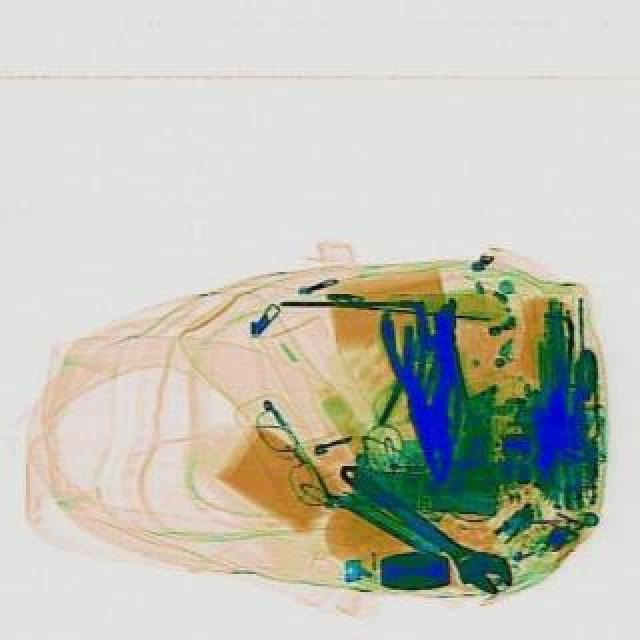scissors: (324, 448, 520, 604)
wrench: (372, 294, 484, 490)
